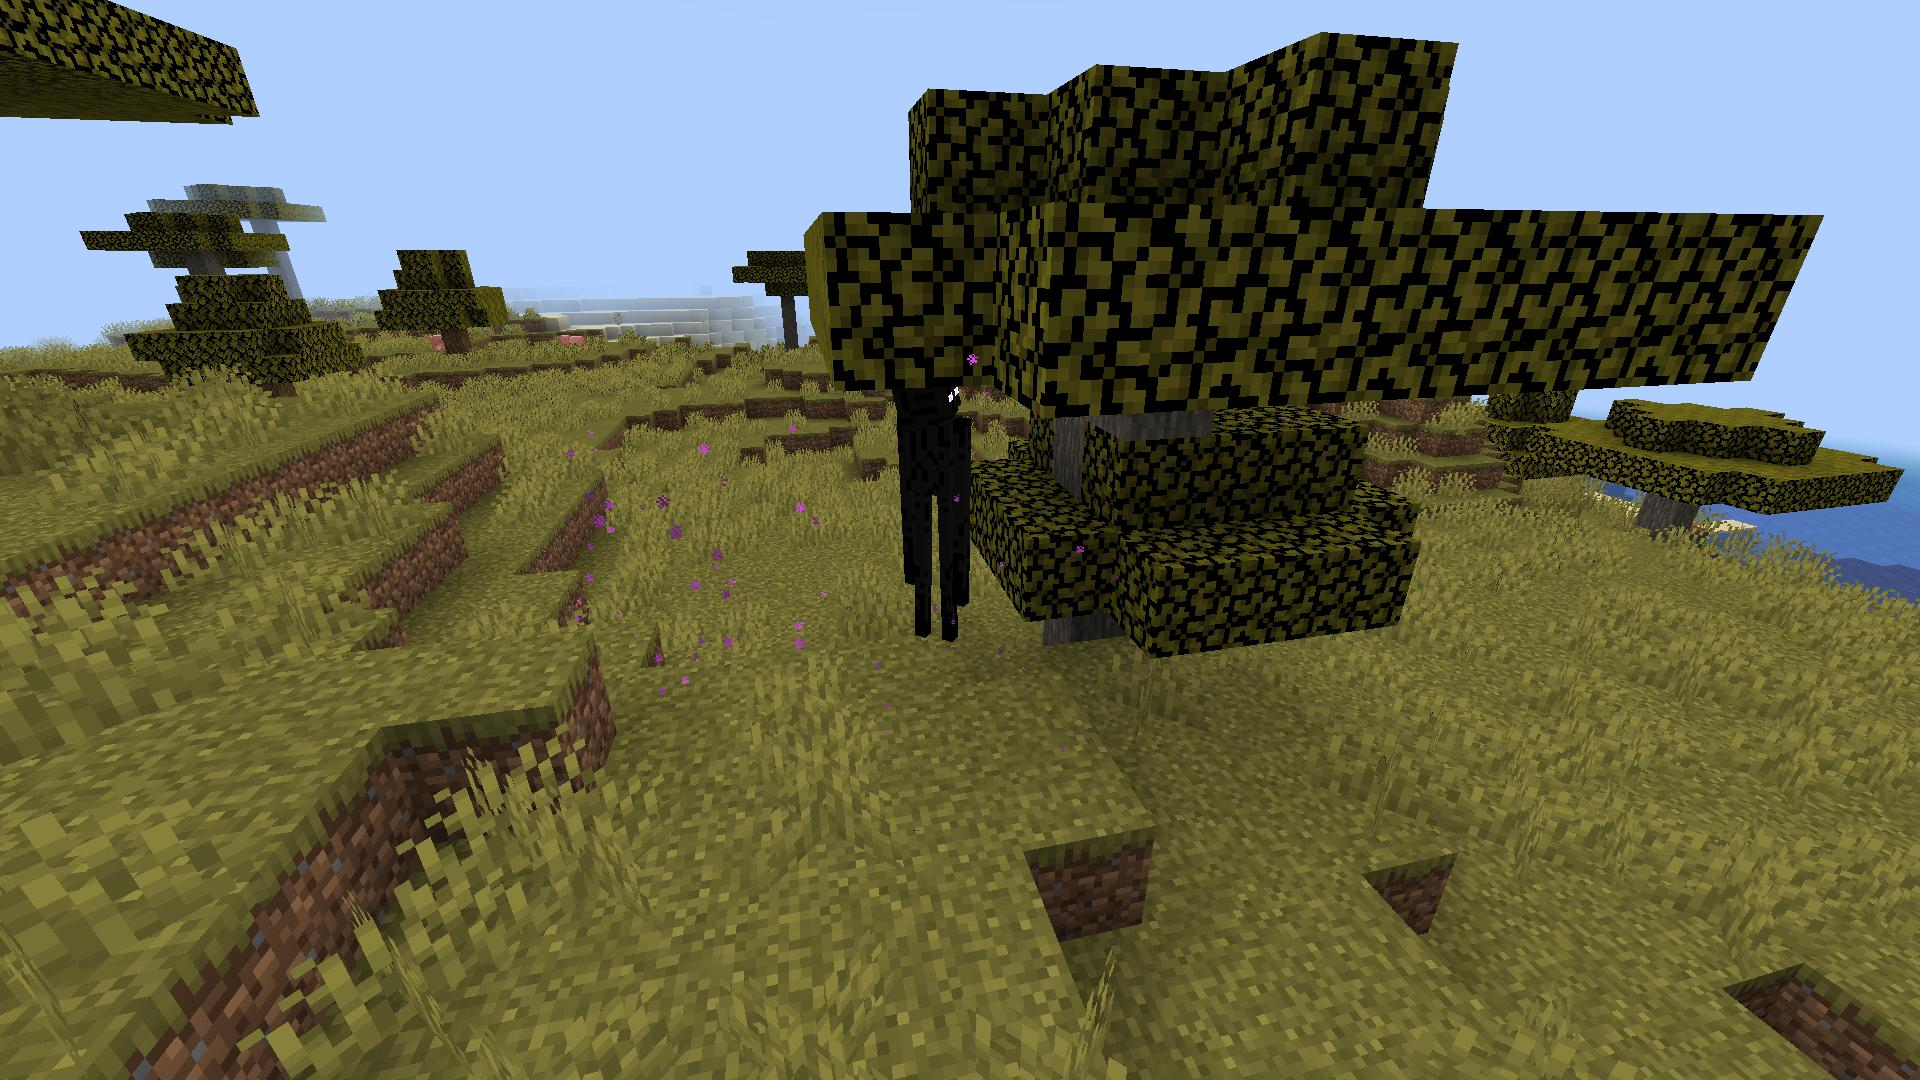enderman: (882, 356, 978, 662)
